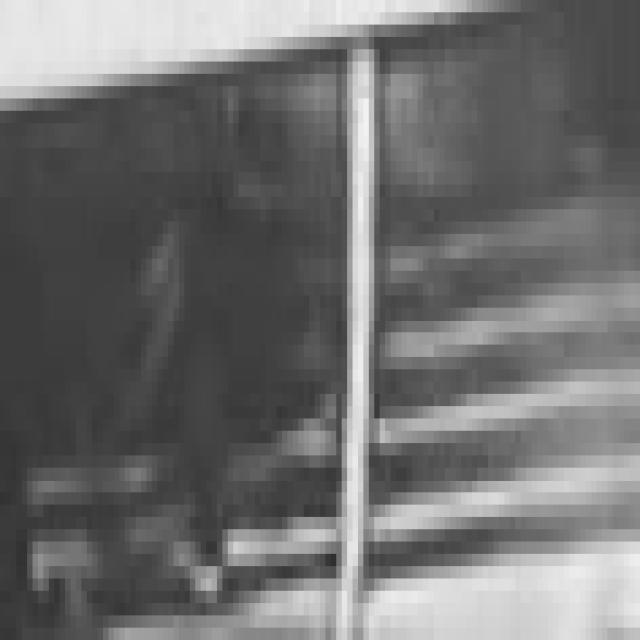stick: (310, 44, 396, 640)
